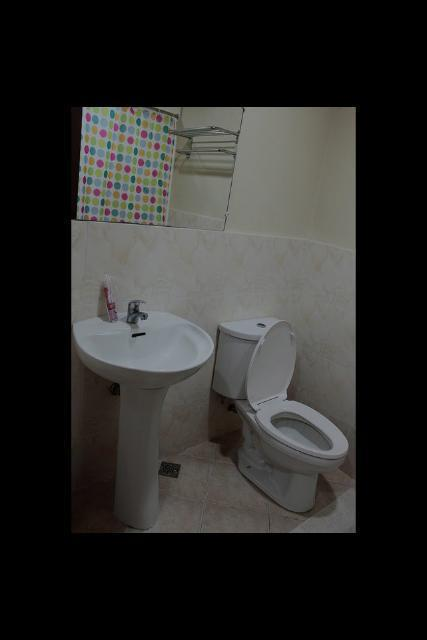Lavamanos: (75, 293, 207, 525)
Sanitario: (214, 313, 353, 511)
